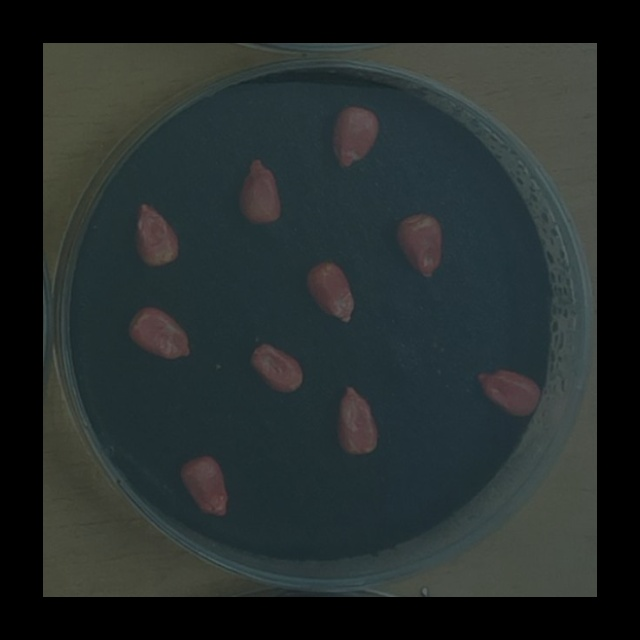Zea mays: (122, 301, 196, 365), (390, 207, 449, 285), (469, 364, 546, 423), (324, 100, 383, 176), (175, 449, 232, 524), (331, 381, 383, 461), (232, 153, 286, 230), (301, 257, 358, 329), (128, 199, 182, 274), (243, 337, 307, 399)
